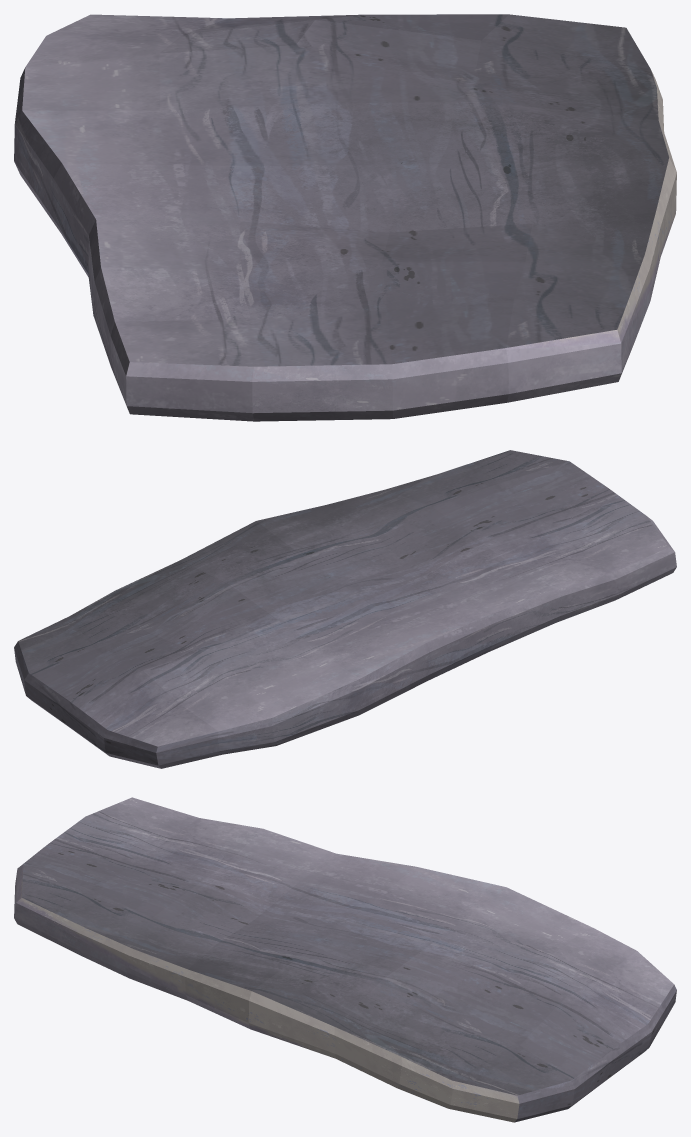
Rendered from flat_rock_1.fbx.
3 views of the same model, one above another, from view 1: azimuth 30°, elevation 25°; view 2: azimuth 150°, elevation 25°; view 3: azimuth 270°, elevation 25° (orthographic). The views are drawn at different scales.
Parts seen in each view (by area): view 1: flat rock 1; view 2: flat rock 1; view 3: flat rock 1.
Part boxes in pixels (x1,y1,x2,y2): flat rock 1: [14, 14, 676, 421]; flat rock 1: [14, 450, 676, 768]; flat rock 1: [14, 797, 676, 1122].
Bounding box in the file's own units: 2586 × 576 × 3108.
